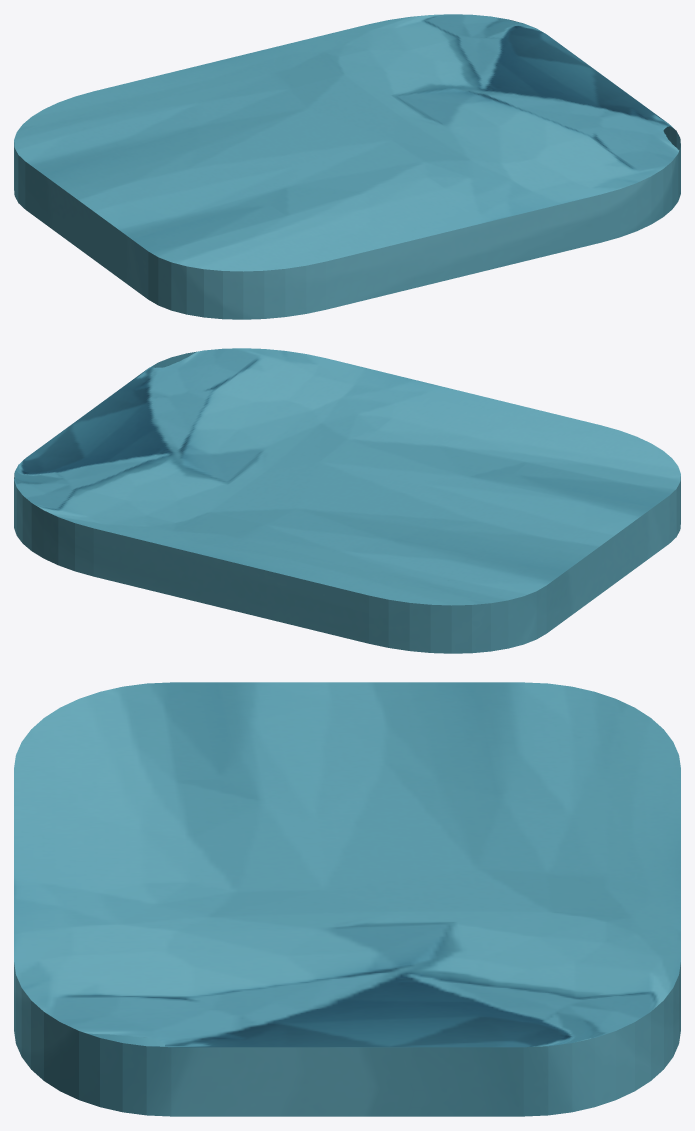
Rendered from Hand_asset_Sports-Tshirt.fbx.
3 renders of one model, top to bottom at view 1: azimuth 30°, elevation 25°; view 2: azimuth 150°, elevation 25°; view 3: azimuth 270°, elevation 25°, orthographic. The views are drawn at different scales.
Parts seen in each view (by area): view 1: Suit_folded.001; view 2: Suit_folded.001; view 3: Suit_folded.001.
Boxes of the visible parts, x1,y1,x2,y2 form: Suit_folded.001: [14, 14, 680, 319]; Suit_folded.001: [14, 348, 680, 653]; Suit_folded.001: [14, 682, 680, 1116].
Size of the model in its own units: 63.62 by 5.63 by 49.15.
1 material, 1 textured.
